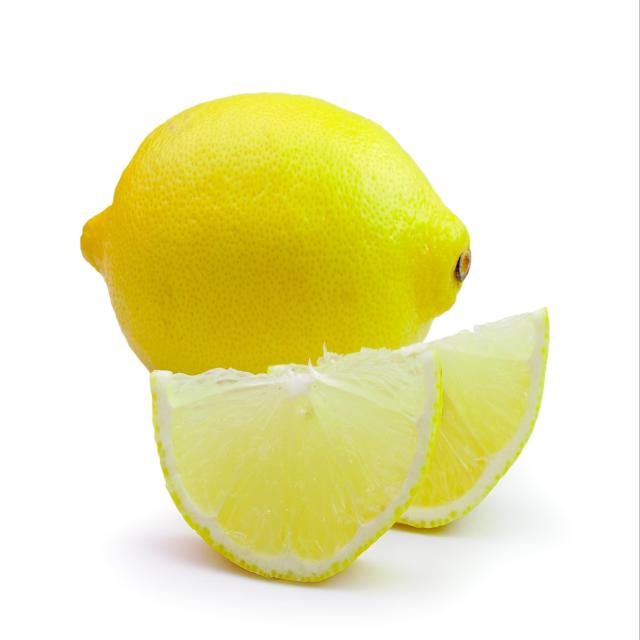lemon: (77, 86, 477, 385), (142, 302, 555, 589)
